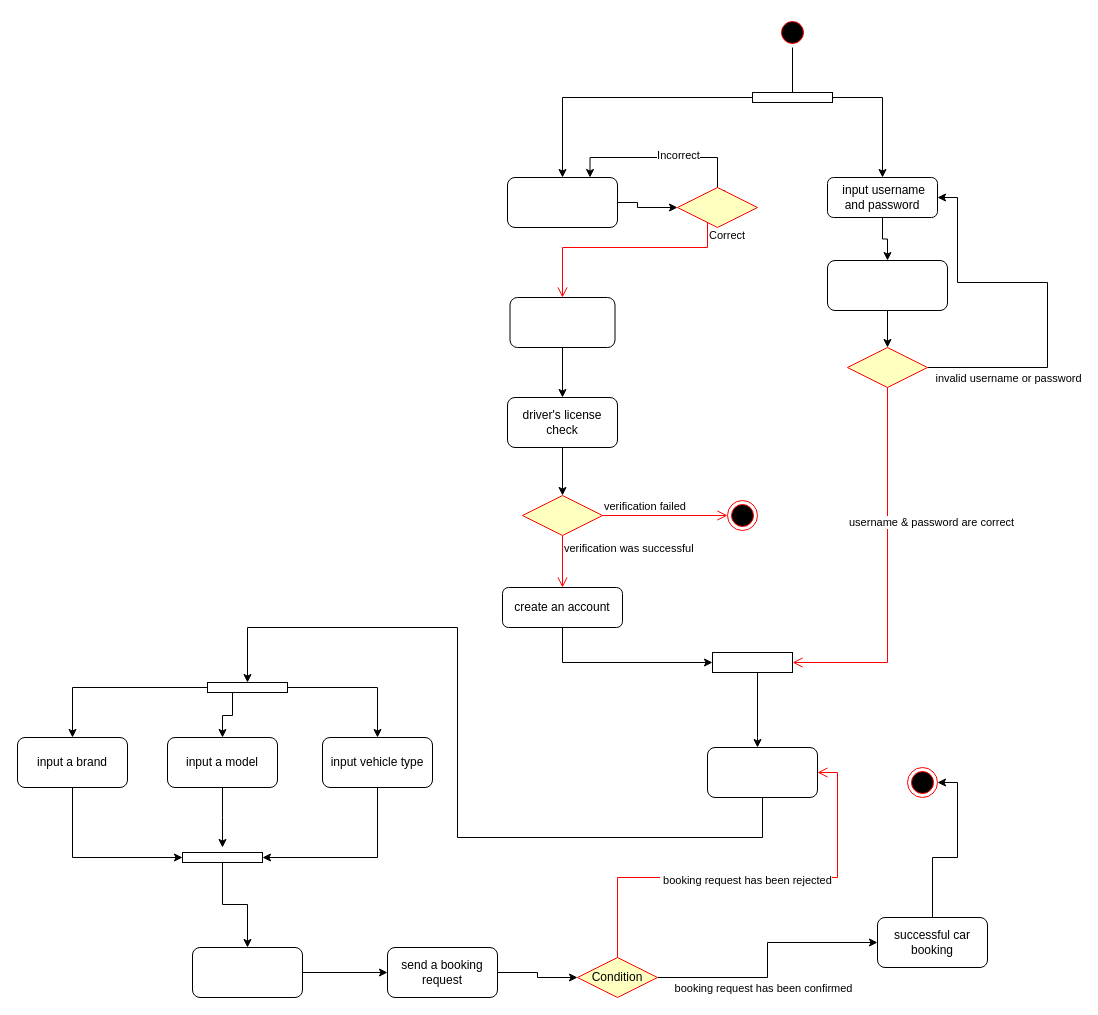
Image size: 1098x1015. Some labels were removed from this diagram. Each missing label, with the centre of its shape:
car search: point (762, 772)
choose a car: point (247, 972)
filling out the registration form: point (562, 202)
registration: point (562, 322)
verify username and password: point (887, 285)
